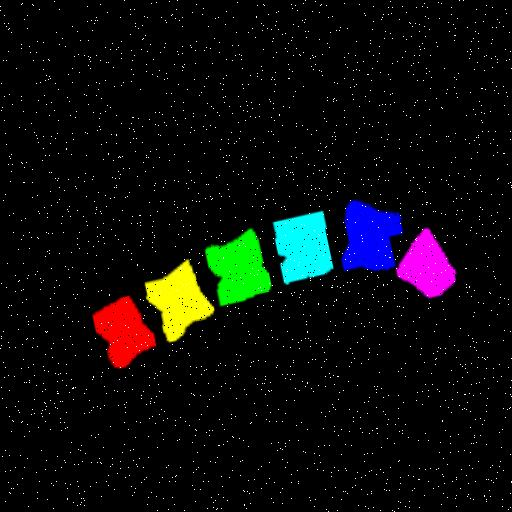L1: (92, 295, 156, 367)
L2: (145, 259, 213, 341)
L3: (205, 228, 270, 305)
L4: (274, 211, 332, 283)
L5: (344, 200, 403, 271)
S1: (395, 228, 456, 298)
